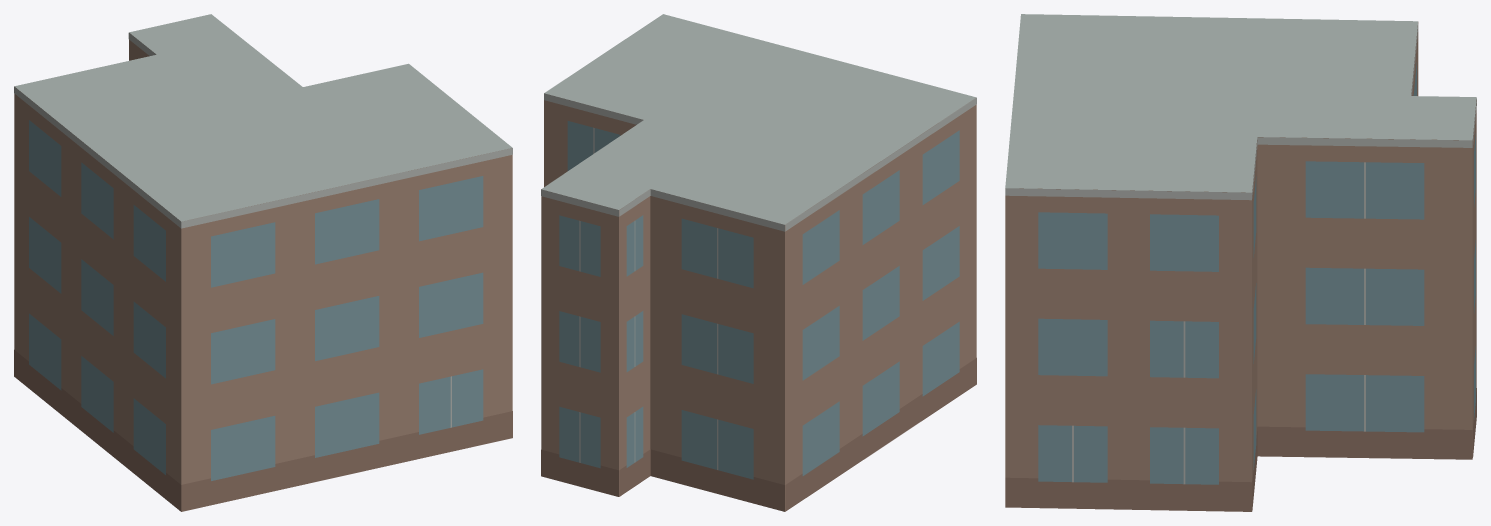
Rendered from survey-upis-32475262.glb.
3 views of the same model, side by side, from view 1: azimuth 30°, elevation 25°; view 2: azimuth 150°, elevation 25°; view 3: azimuth 270°, elevation 25° (orthographic). The views are drawn at different scales.
Parts seen in each view (by area): view 1: survey-upis-32475262.tmp; view 2: survey-upis-32475262.tmp; view 3: survey-upis-32475262.tmp.
Boxes of the visible parts, x1=… form: survey-upis-32475262.tmp: x1=14, y1=14, x2=512, y2=511; survey-upis-32475262.tmp: x1=541, y1=14, x2=976, y2=511; survey-upis-32475262.tmp: x1=1005, y1=14, x2=1476, y2=511.
Bounding box in the file's own units: 12.24 × 10.2 × 13.66.
